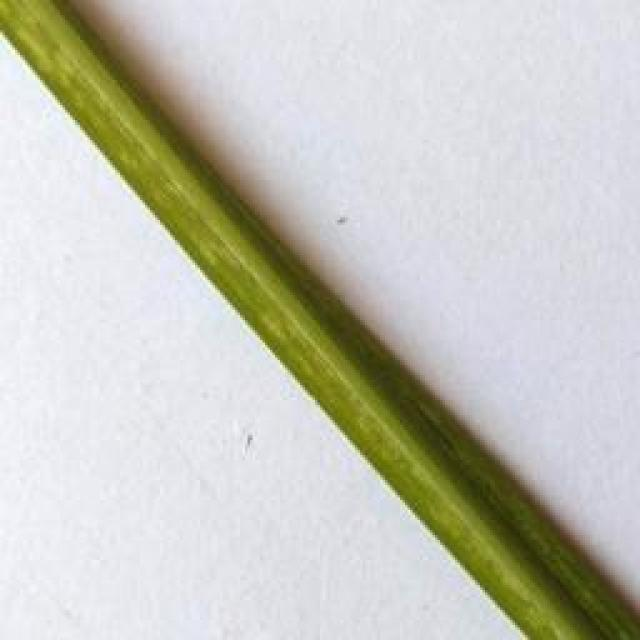Healthy-Plant: (3, 0, 610, 640)
